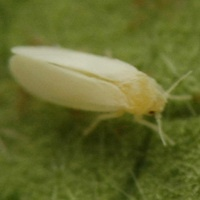insect: (9, 46, 190, 144)
